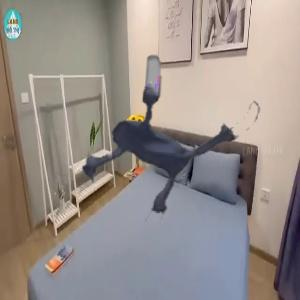drone: (53, 21, 270, 238)
